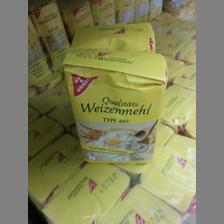Mehl: (62, 20, 166, 163)
